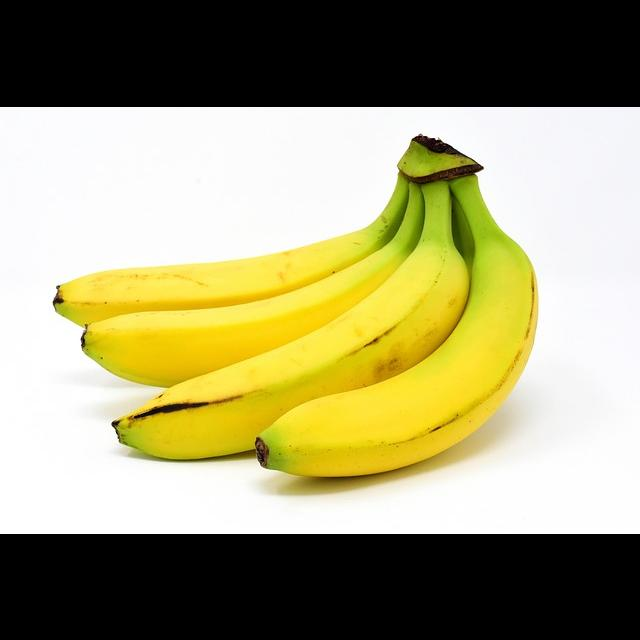banana: (128, 228, 472, 477), (264, 217, 565, 487), (67, 220, 415, 411), (25, 209, 414, 318)
